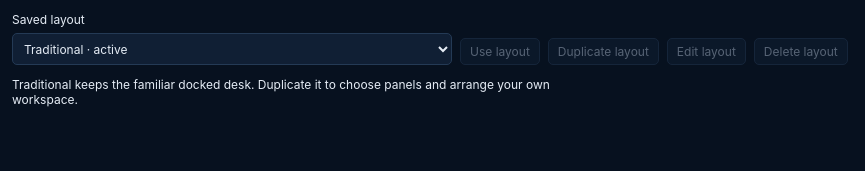
Test: prevents removing the active custom preset and refuses another duplicate at the preset limit
Expected: the button "Duplicate layout" is disabled, [548,38,659,65]
Select "Custom" in the dropdown labelled "Saved layout" at point(232, 49), box [12,33,452,65]
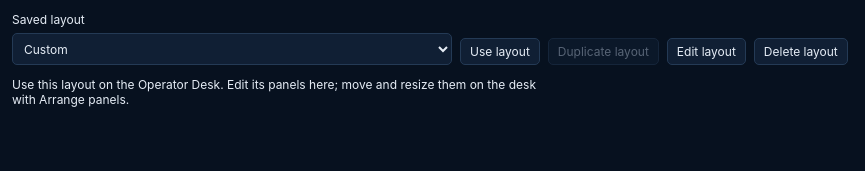
Click the button "Use layout" at point(500, 52), box [460,38,540,65]
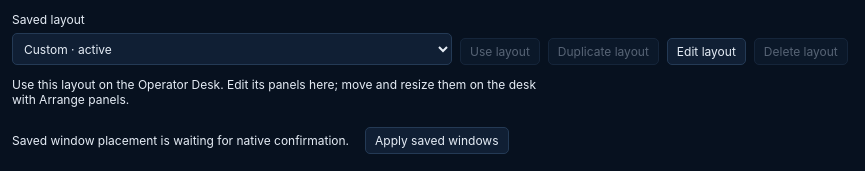
Expected: the button "Delete layout" is disabled, [754,38,848,65]
